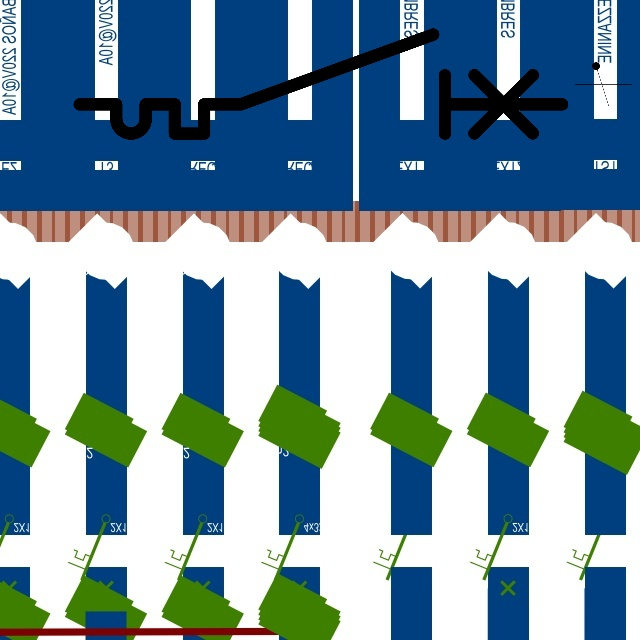interruptor_termomagnetico: (67, 22, 574, 146)
